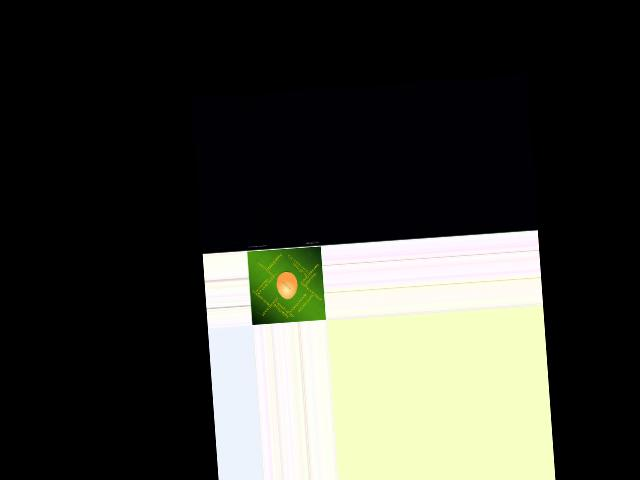egg: (275, 271, 298, 299)
